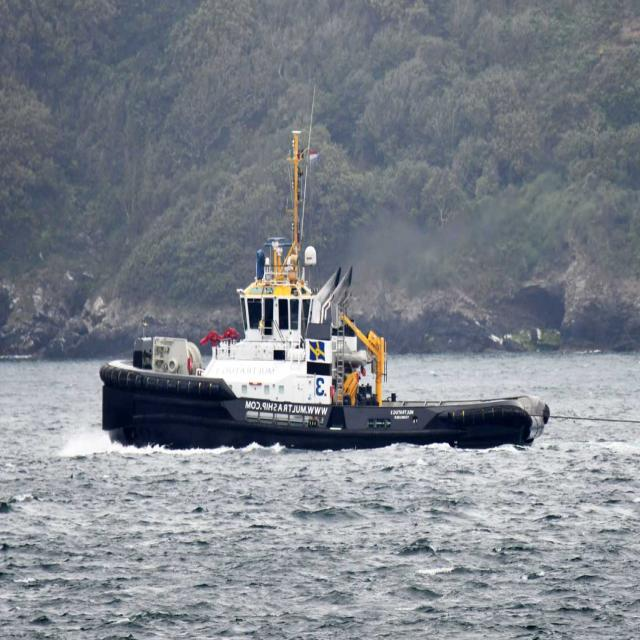houseboat: (97, 155, 548, 452)
